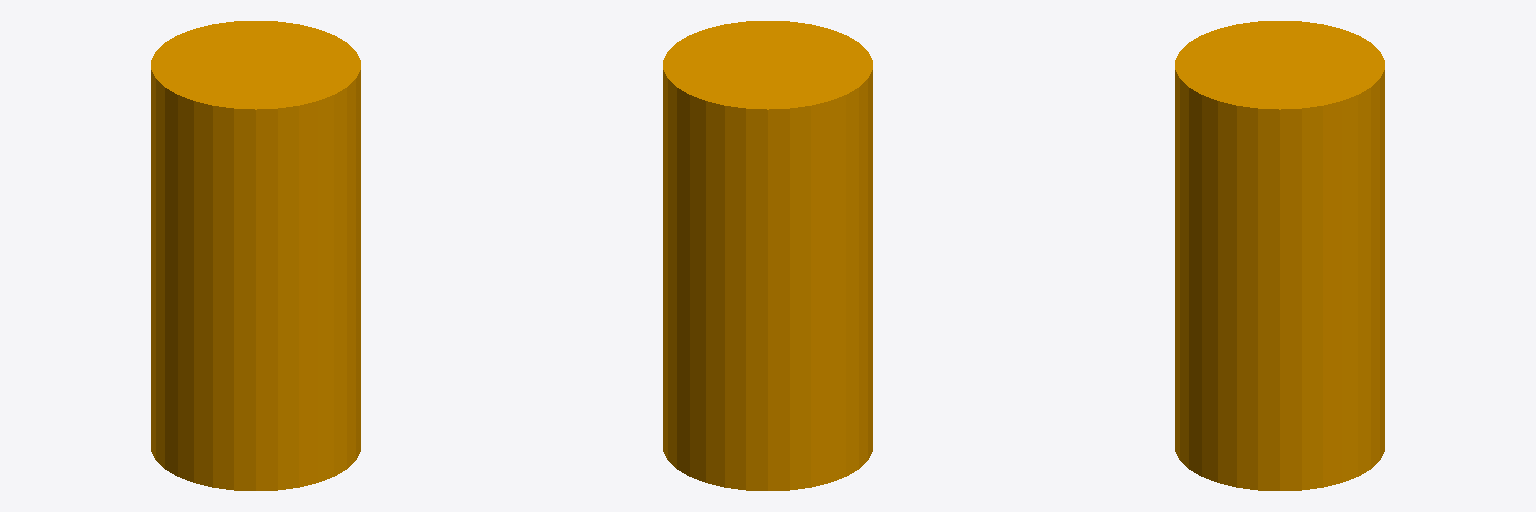
robot.urdf — robot_rest:
<?xml version="1.0" encoding="utf-8"?>
<!-- This URDF was automatically created by SolidWorks to URDF Exporter! Originally created by [author] ([email redacted]) 
     Commit Version: 1.5.1-0-g916b5db  Build Version: 1.5.7152.31018
     For more information, please see http://wiki.ros.org/sw_urdf_exporter -->
<robot
  name="robot_rest">
  <link
    name="robot_rest">
    <inertial>
      <origin
        xyz="0 0 0"
        rpy="0 0 0" />
      <mass
        value="100.53" />
      <inertia
        ixx="6.367"
        ixy="-3.2784E-32"
        ixz="7.6788E-33"
        iyy="2.0106"
        iyz="2.6674375598959E-16"
        izz="6.367" />
    </inertial>
    <visual>
      <origin
        xyz="0 0 0"
        rpy="0 0 0" />
      <geometry>
        <mesh
          filename="package://voadrs/meshes/robot_rest.STL" />
      </geometry>
    </visual>
    <collision>
      <origin
        xyz="0 0 0"
        rpy="0 0 0" />
      <geometry>
        <mesh
          filename="package://voadrs/meshes/robot_rest.STL" />
      </geometry>
    </collision>
  </link>
</robot>

--- What the picture shows (computed from the rendered views, not written in the file) ---
Views: 3 orthographic renders of the robot side by side, from view 1: azimuth 30°, elevation 25°; view 2: azimuth 150°, elevation 25°; view 3: azimuth 270°, elevation 25°.
Robot: robot_rest — 1 links, 0 joints (none); root link robot_rest; default pose: every joint at zero.
Links seen in each view (by area): view 1: robot_rest; view 2: robot_rest; view 3: robot_rest.
Boxes of the visible links, left/top/right/bottom form: robot_rest: left=151, top=21, right=360, bottom=490; robot_rest: left=663, top=21, right=872, bottom=490; robot_rest: left=1175, top=21, right=1384, bottom=490.
Size in the robot's own frame: 0.4 by 0.3978 by 0.8 metres.
Meshes: 1 distinct files referenced, 1 mesh visuals loaded (1 binary STL).